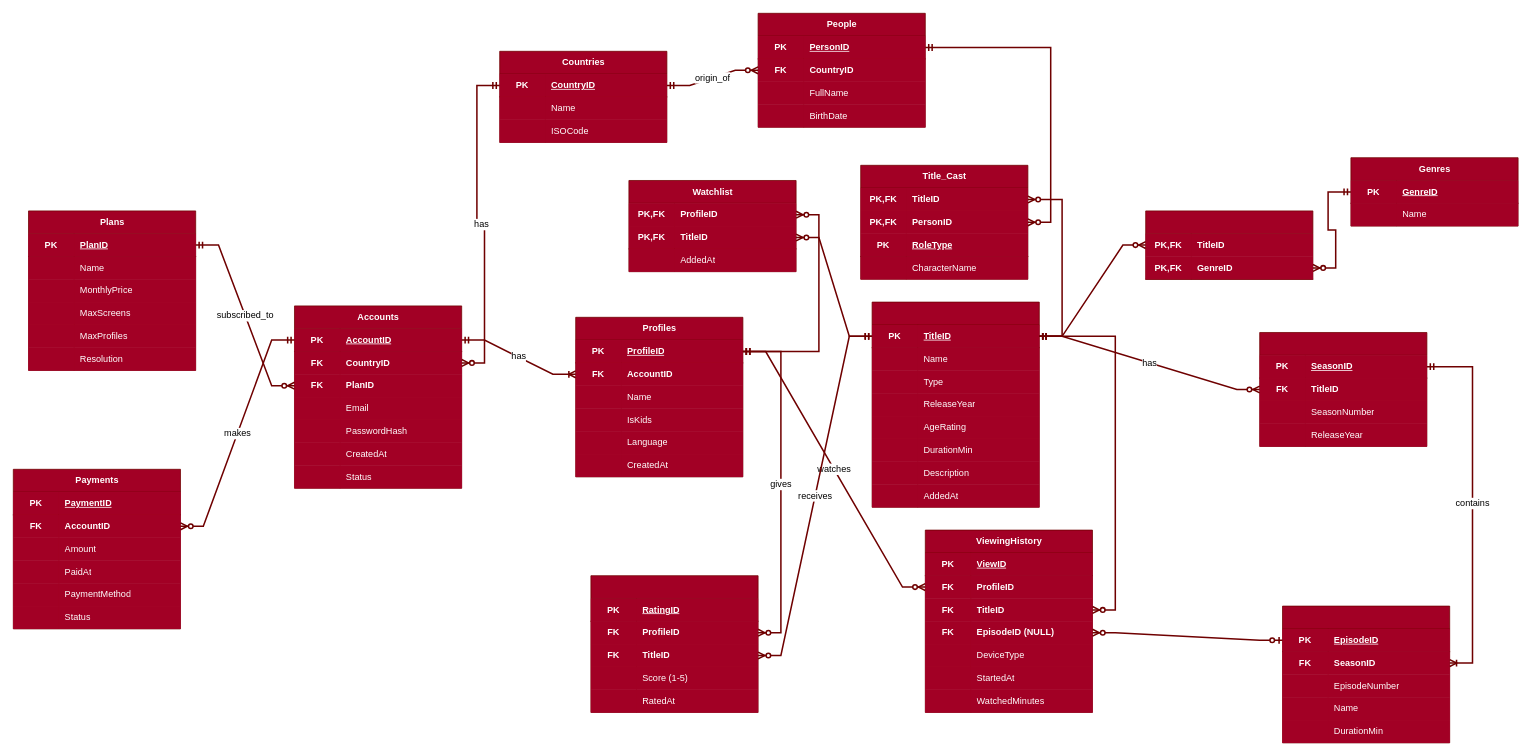
This 1531x756 diagram has some shape labels left out. Here are the shapes that lost their labels. From the top down, the box of each, then its label:
(1145, 210, 1313, 279): Title_Genres
(871, 301, 1039, 507): Titles
(1259, 332, 1427, 446): Seasons
(590, 575, 758, 712): Ratings
(1282, 605, 1450, 743): Episodes
